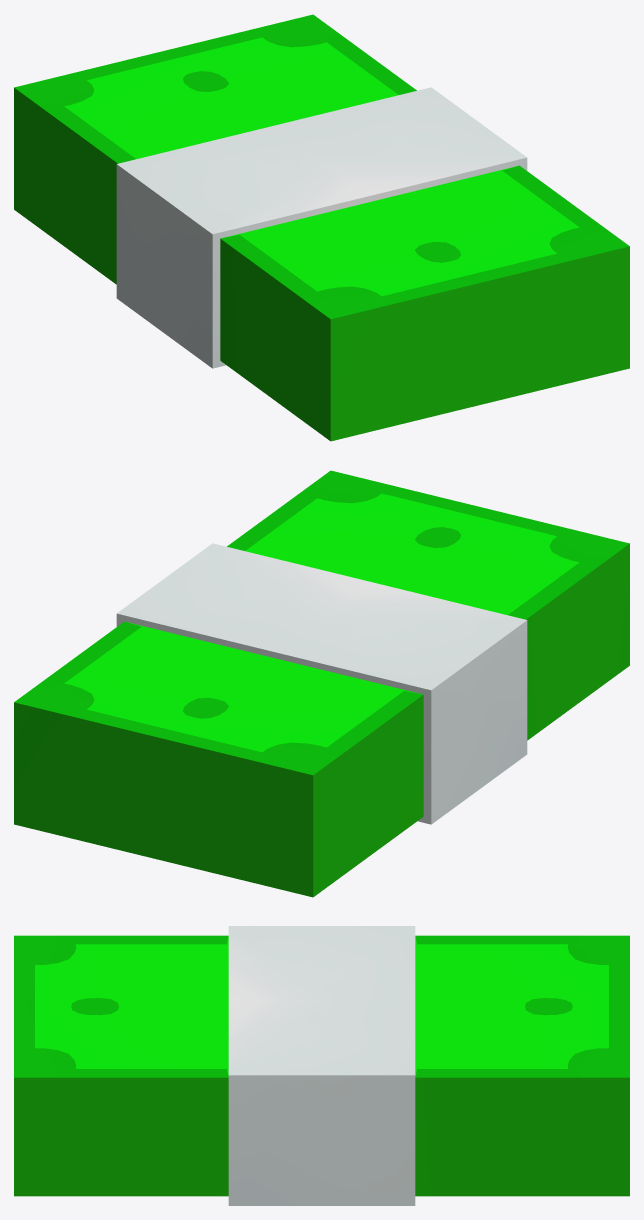
Rendered from dollar 1.fbx.
The picture shows the model from 3 angles, top to bottom: view 1: azimuth 30°, elevation 25°; view 2: azimuth 150°, elevation 25°; view 3: azimuth 270°, elevation 25°; orthographic projection. The views are drawn at different scales.
Visible parts, largest first — view 1: dollar; view 2: dollar; view 3: dollar.
Part boxes in pixels (left/top/right/bottom): dollar: left=14, top=14, right=629, bottom=441; dollar: left=14, top=470, right=629, bottom=897; dollar: left=14, top=926, right=629, bottom=1205.
Bounding box in the file's own units: 126 × 51.48 × 220.
1 material, 1 textured.
